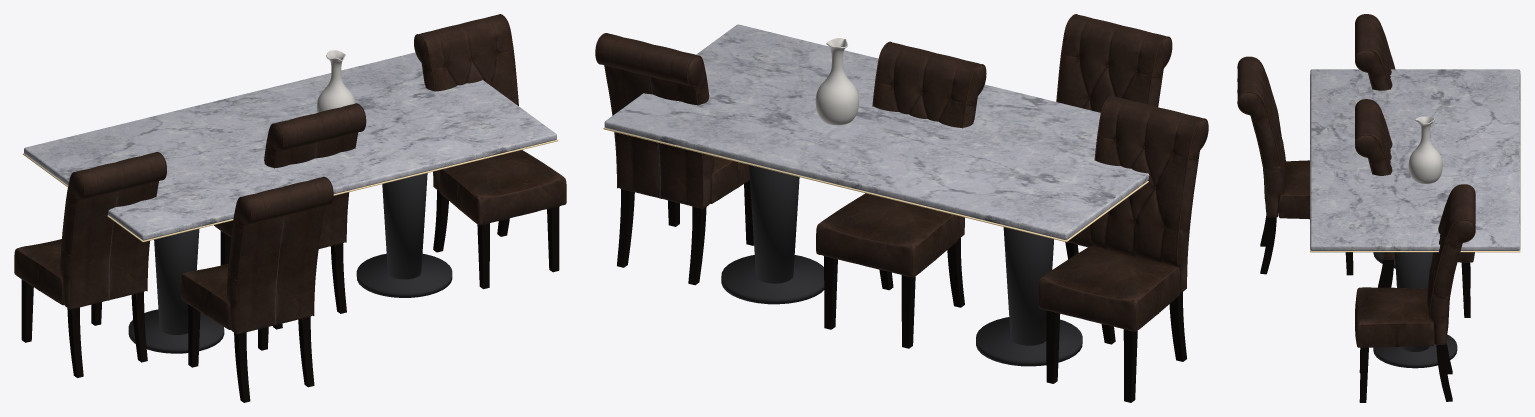
The model's file is h_tbl2.glb.
3 views of the same model, side by side, from view 1: azimuth 30°, elevation 25°; view 2: azimuth 150°, elevation 25°; view 3: azimuth 270°, elevation 25° (orthographic). The views are drawn at different scales.
Visible parts, largest first — view 1: marble, dining_chair_02, dining_chair_02.002, dining_chair_02.001, dining_chair_02.003, col.001, col, base.001, base, ceramic_vase_01, edge; view 2: marble, dining_chair_02.002, dining_chair_02.003, dining_chair_02.001, dining_chair_02, col.001, col, base.001, base, ceramic_vase_01, edge; view 3: marble, dining_chair_02.001, dining_chair_02, dining_chair_02.003, dining_chair_02.002, ceramic_vase_01, col.001, base.001, edge.
Boxes of the visible parts, bbox=[...] form: marble: bbox=[24, 52, 556, 240]; dining_chair_02: bbox=[181, 176, 333, 402]; dining_chair_02.002: bbox=[14, 152, 166, 377]; dining_chair_02.001: bbox=[414, 14, 566, 289]; dining_chair_02.003: bbox=[214, 103, 366, 329]; col.001: bbox=[382, 173, 427, 279]; col: bbox=[154, 229, 199, 334]; base.001: bbox=[356, 253, 452, 297]; base: bbox=[128, 309, 224, 353]; ceramic_vase_01: bbox=[317, 50, 355, 112]; edge: bbox=[22, 139, 558, 242]; marble: bbox=[604, 24, 1149, 240]; dining_chair_02.002: bbox=[1038, 96, 1208, 402]; dining_chair_02.003: bbox=[816, 41, 986, 348]; dining_chair_02.001: bbox=[595, 33, 753, 285]; dining_chair_02: bbox=[1056, 14, 1172, 259]; col.001: bbox=[749, 165, 799, 283]; col: bbox=[1003, 227, 1053, 345]; base.001: bbox=[721, 255, 824, 304]; base: bbox=[976, 317, 1082, 366]; ceramic_vase_01: bbox=[815, 38, 859, 125]; edge: bbox=[603, 127, 1148, 242]; marble: bbox=[1310, 69, 1520, 250]; dining_chair_02.001: bbox=[1355, 184, 1475, 402]; dining_chair_02: bbox=[1237, 56, 1353, 275]; dining_chair_02.003: bbox=[1355, 99, 1474, 317]; dining_chair_02.002: bbox=[1355, 14, 1395, 90]; ceramic_vase_01: bbox=[1408, 116, 1442, 183]; col.001: bbox=[1394, 252, 1432, 351]; base.001: bbox=[1373, 334, 1457, 368]; edge: bbox=[1310, 74, 1520, 252].
Bounding box in the file's own units: 2.08 × 0.9558 × 1.19.
5 materials, 3 textured.
